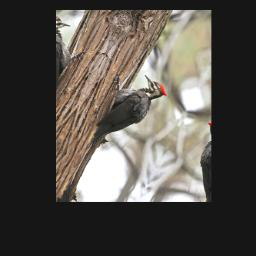Woodpecker: (79, 60, 170, 175)
